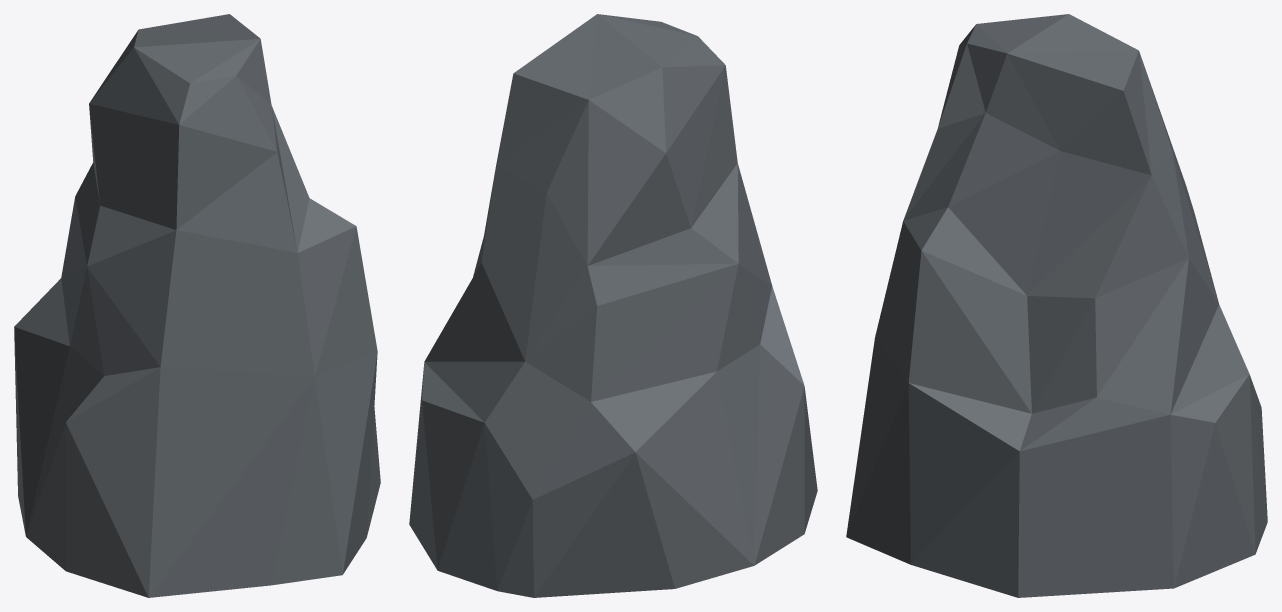
The model's file is TP_Rock01.fbx.
The picture shows the model from 3 angles, left to right: view 1: azimuth 30°, elevation 25°; view 2: azimuth 150°, elevation 25°; view 3: azimuth 270°, elevation 25°; orthographic projection.
Parts seen in each view (by area): view 1: TP_Rock01; view 2: TP_Rock01; view 3: TP_Rock01.
Part boxes in pixels (box(x1,y1,x2,y2)): TP_Rock01: box(14, 14, 380, 597); TP_Rock01: box(409, 14, 817, 597); TP_Rock01: box(846, 14, 1267, 597).
Bounding box in the file's own units: 168 × 235 × 186.
1 material, 1 textured.
